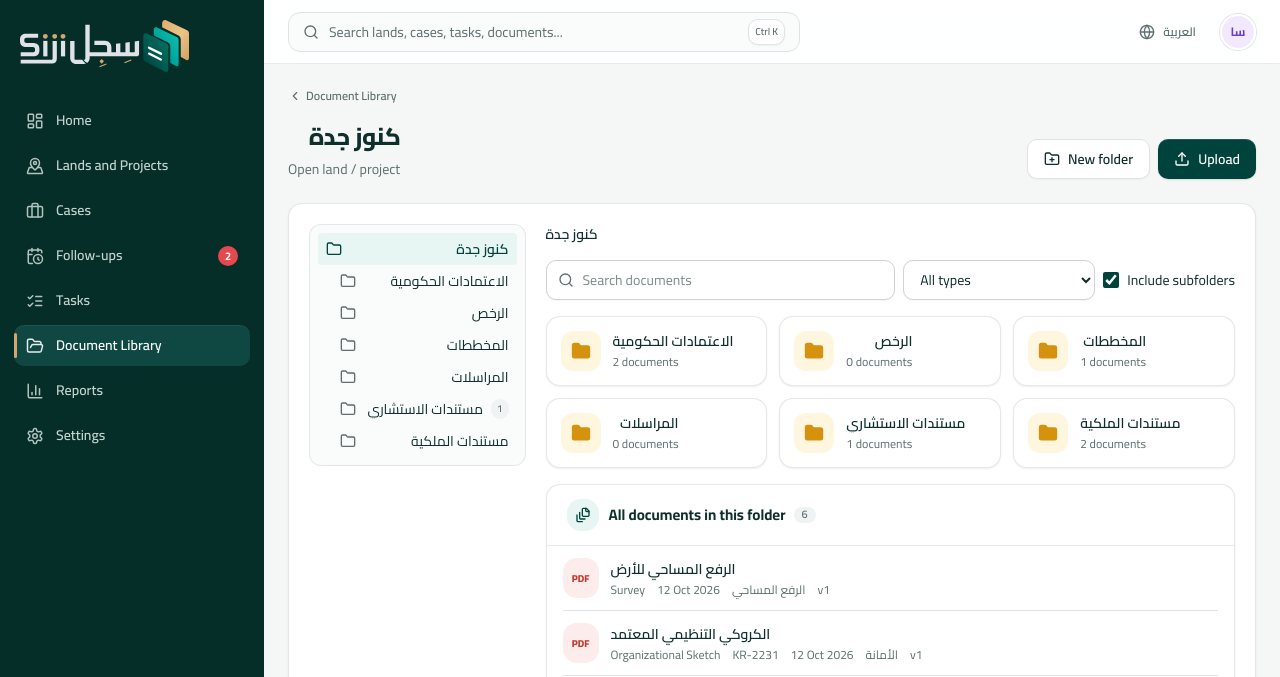
Test case: document library › browses folders with breadcrumbs
Click the button "الاعتمادات الحكومية 2 documents". click: click(656, 351)
box: [546, 316, 767, 386]
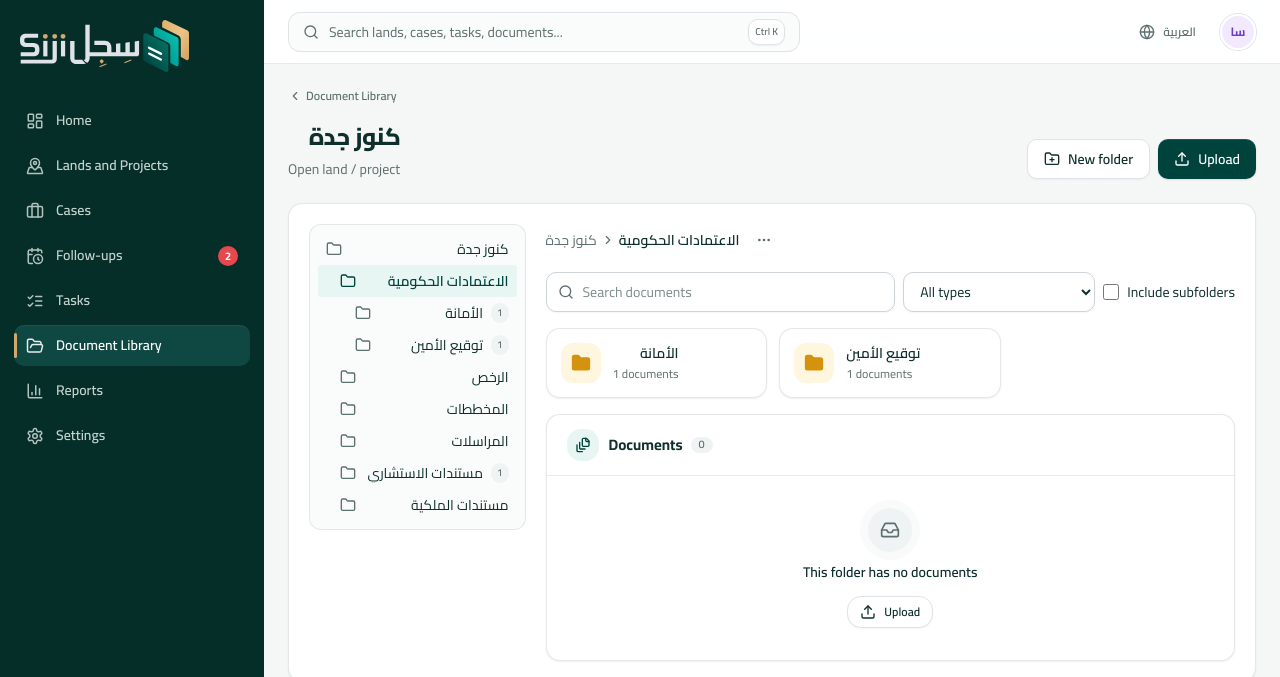
Click the button "توقيع الأمين 1 documents". click: click(890, 363)
box: [779, 328, 1001, 398]
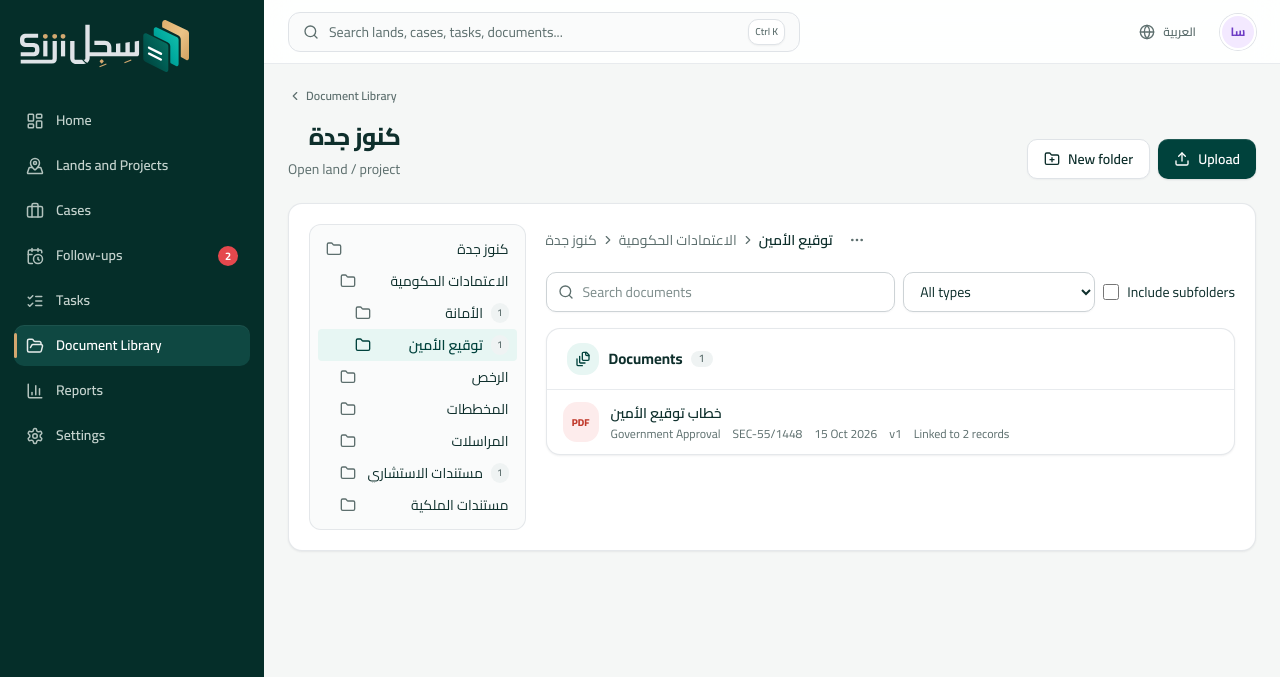
Expected: the 2nd button "كنوز جدة" is shown, [546, 230, 597, 250]
Expected: the text "خطاب توقيع الأمين" is shown, [610, 402, 722, 424]
